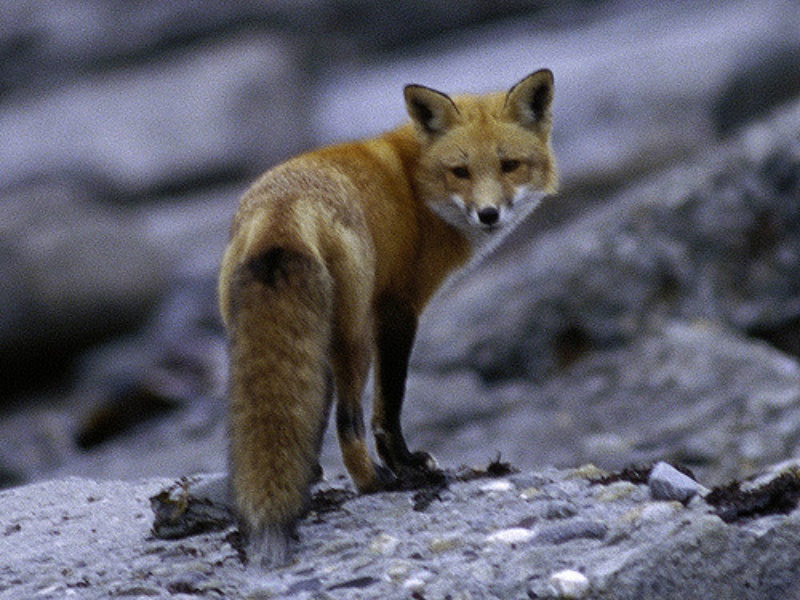fox: (203, 66, 562, 569)
